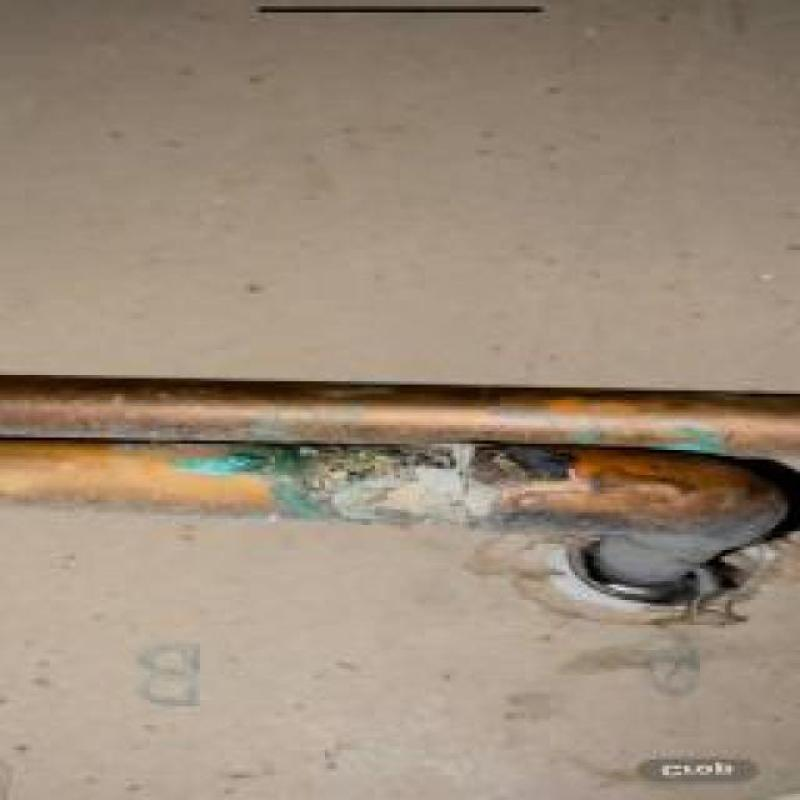corrosion: (269, 452, 592, 531)
